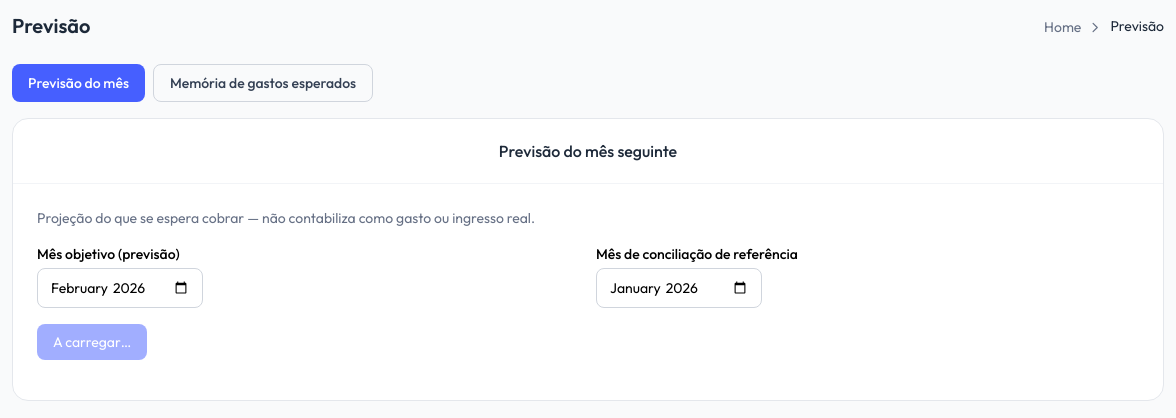
Previsao page › lista memória de gastos esperados
Click the button "Memória de gastos esperados" at [263, 83], box [153,64,373,102]
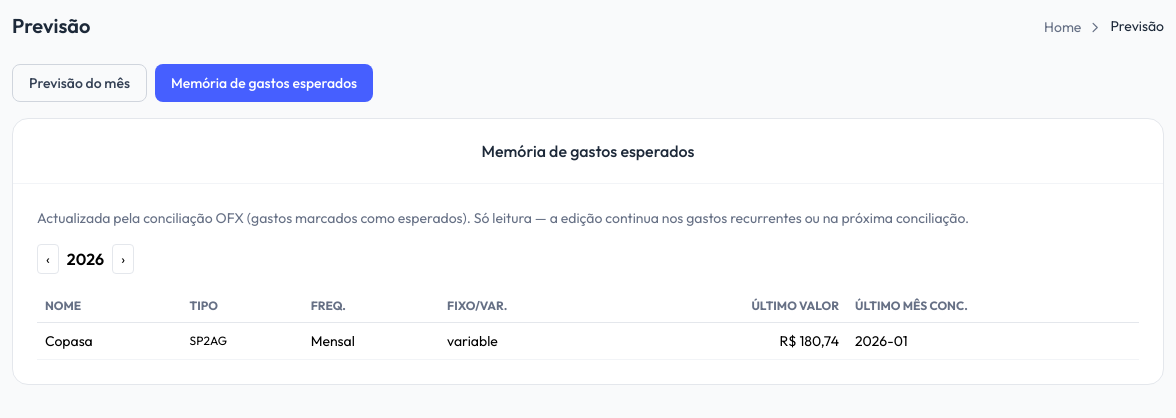
Now the text "Copasa" is shown, box [37,322,182,360]
